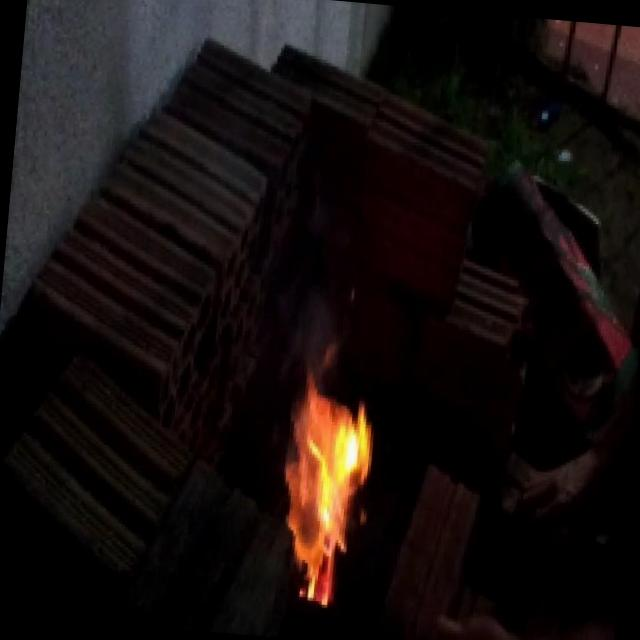fire: (252, 335, 413, 606)
